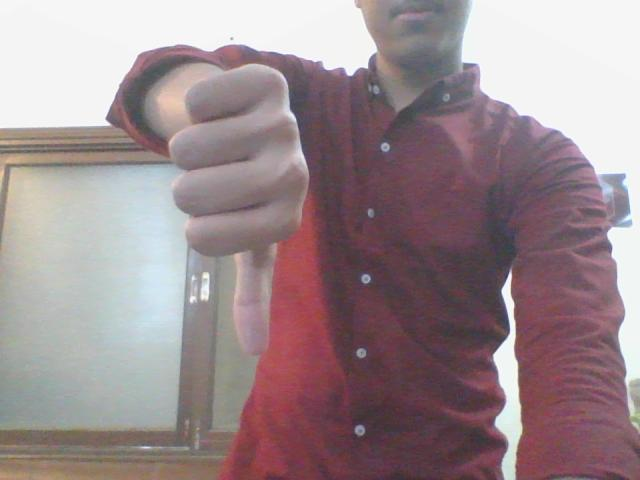thumbs-down: (171, 61, 326, 361)
